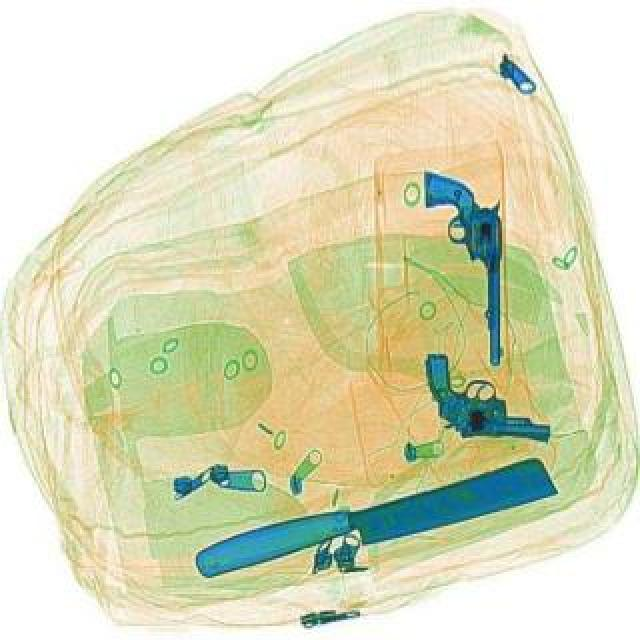gun: (422, 166, 506, 364), (420, 350, 552, 440)
knife: (186, 446, 558, 590)
